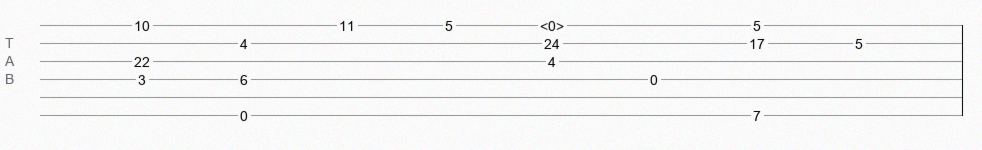0: (240, 108, 248, 118), (650, 72, 658, 82)
10: (134, 18, 150, 28)
11: (339, 18, 355, 28)
17: (749, 36, 765, 46)
22: (134, 54, 150, 64)
24: (544, 36, 560, 46)
3: (138, 72, 146, 82)
4: (240, 36, 248, 46), (548, 54, 556, 64)
5: (445, 18, 453, 28), (753, 18, 761, 28), (855, 36, 863, 46)
6: (240, 72, 248, 82)
7: (753, 108, 761, 118)
harmonic: (540, 18, 564, 28)
